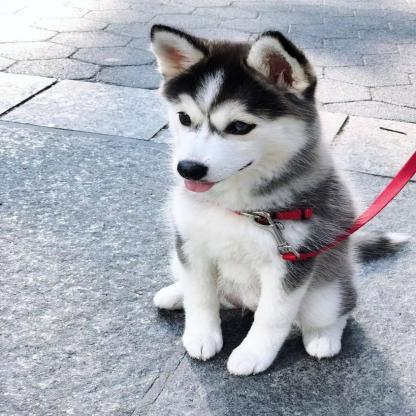husky: (143, 24, 408, 379)
